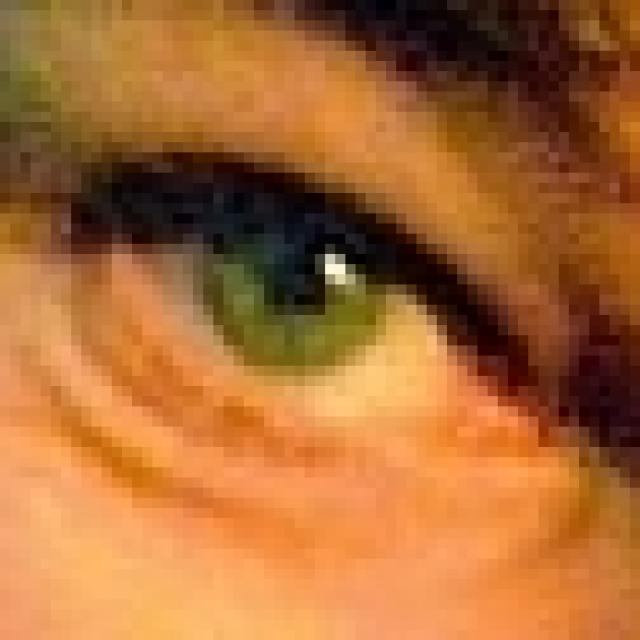eye: (0, 123, 640, 536)
gaze: (200, 182, 400, 386)
